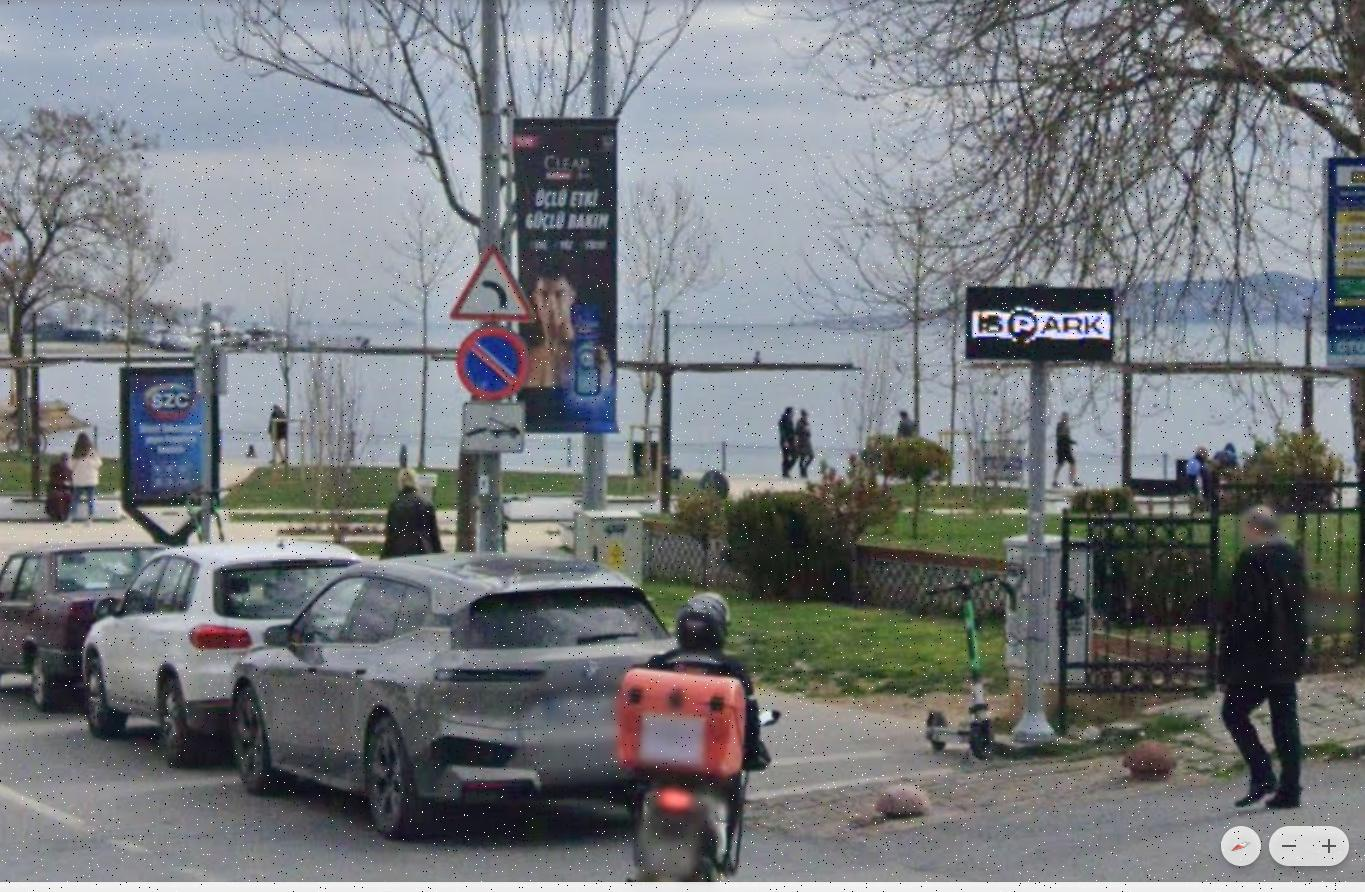nopark: (460, 332, 526, 397)
